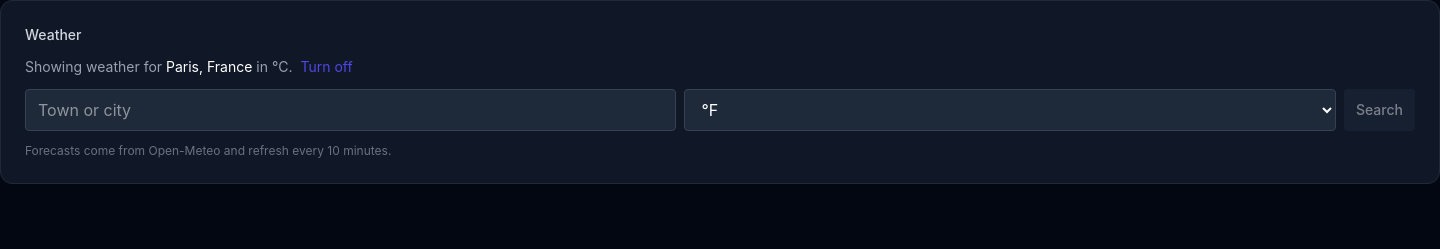
Test: WeatherSettings › turns weather off, and explains failures
Expected: the text "Paris, France" is shown, left=166, top=58, right=252, bottom=75
Type "Lyon" into the field named "Find a place" at (351, 110), box left=25, top=89, right=676, bottom=131
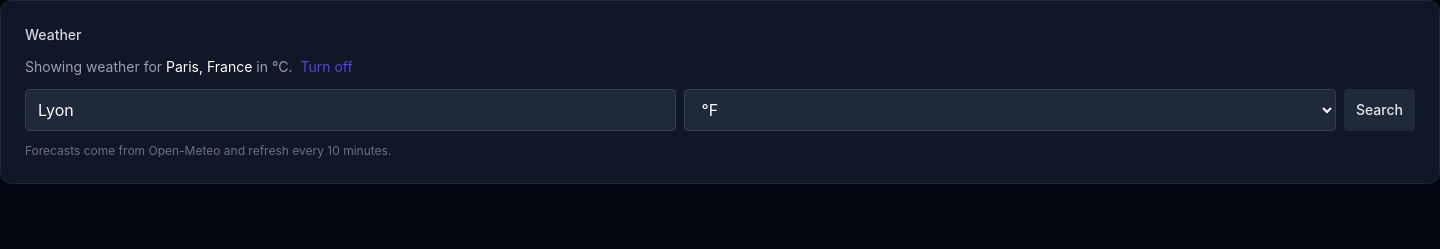
Click the button "Search" at (1380, 110), box left=1344, top=89, right=1415, bottom=131
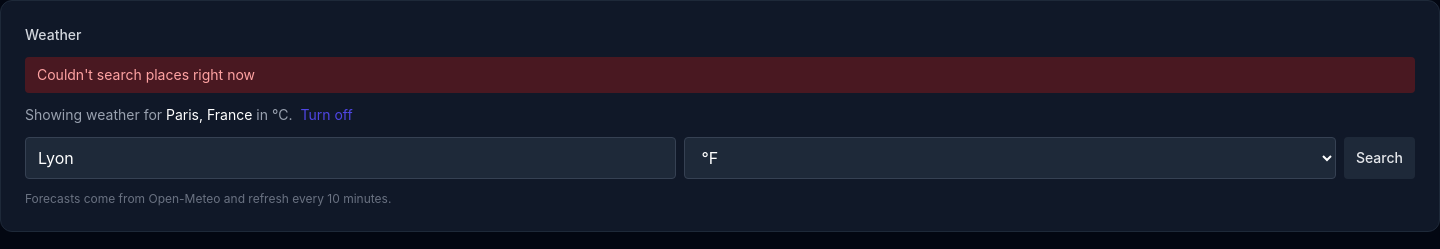
Expected: the text "Couldn't search places right now" is shown, left=25, top=57, right=1415, bottom=93
Click the button "Turn off" at (327, 115), box left=300, top=105, right=353, bottom=125
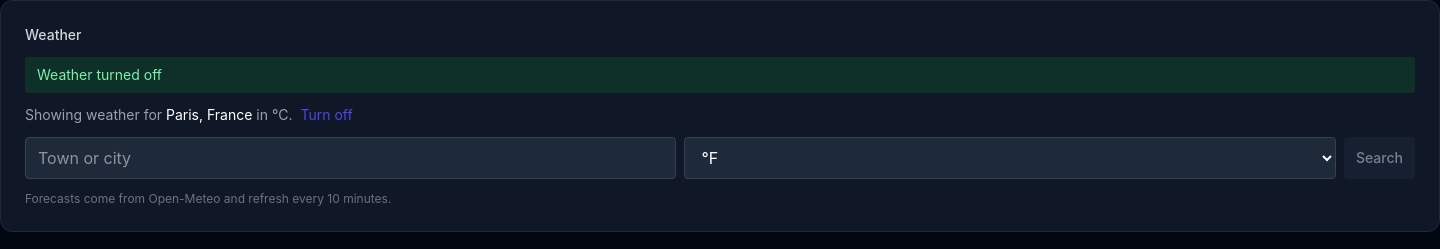
Expected: the text "Weather turned off" is shown, left=25, top=57, right=1415, bottom=93
